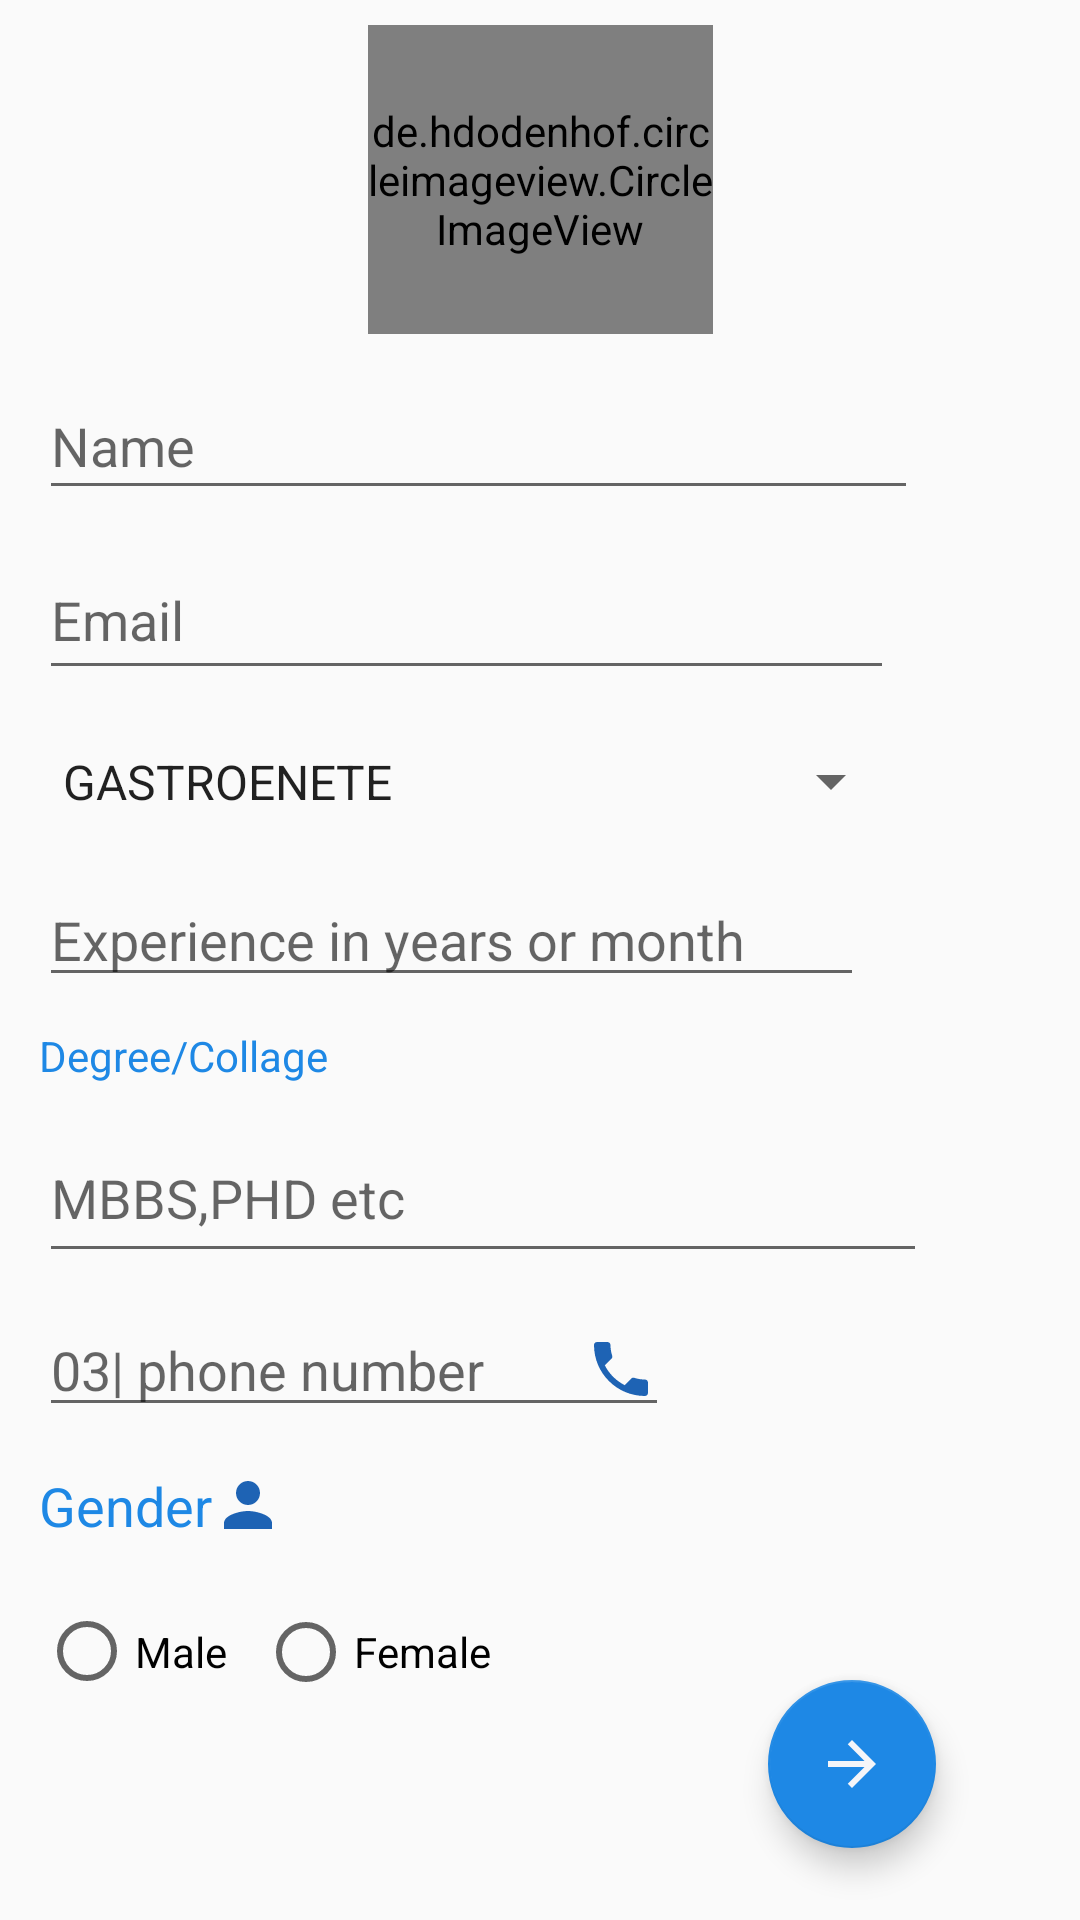

Named icons in this screenshot (1080 × 1920) and their bounding boxes, (x1, y1, x2, y2):
arrow forward: (768, 1680, 936, 1848)
